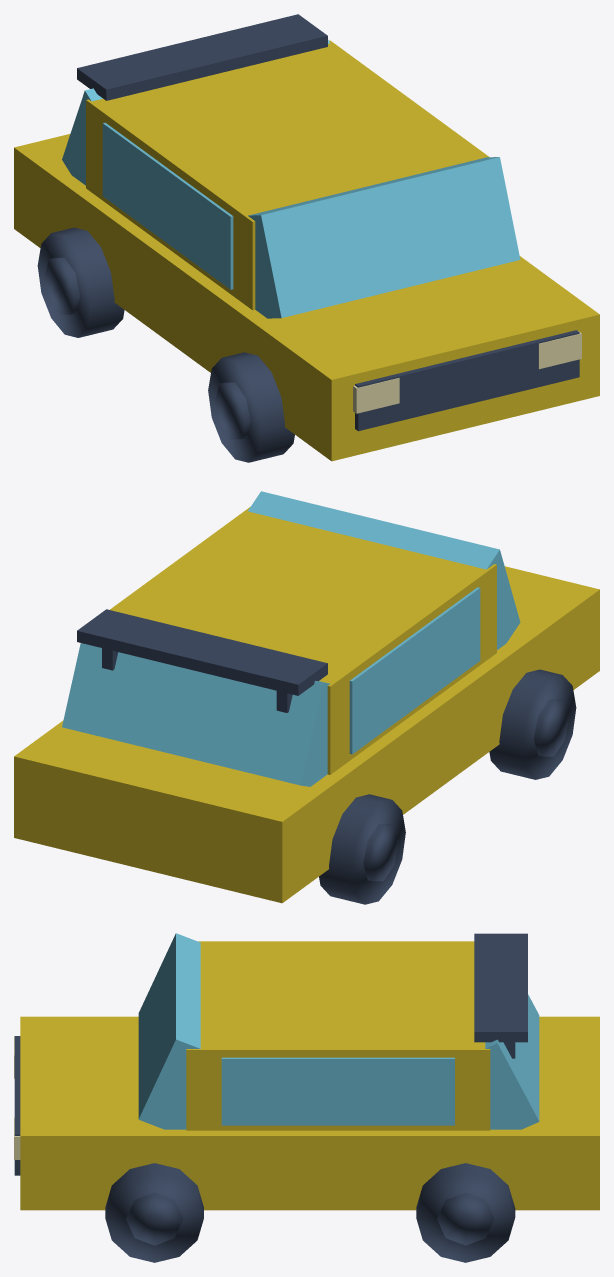
The model's file is lot-car.glb.
3 views of the same model, one above another, from view 1: azimuth 30°, elevation 25°; view 2: azimuth 150°, elevation 25°; view 3: azimuth 270°, elevation 25° (orthographic). The views are drawn at different scales.
Visible parts, largest first — view 1: Root; view 2: Root; view 3: Root.
Part boxes in pixels (bbox=[...]): Root: bbox=[14, 14, 599, 462]; Root: bbox=[14, 491, 599, 904]; Root: bbox=[14, 933, 599, 1262].
Bounding box in the file's own units: 2.41 × 1.64 × 4.14.
